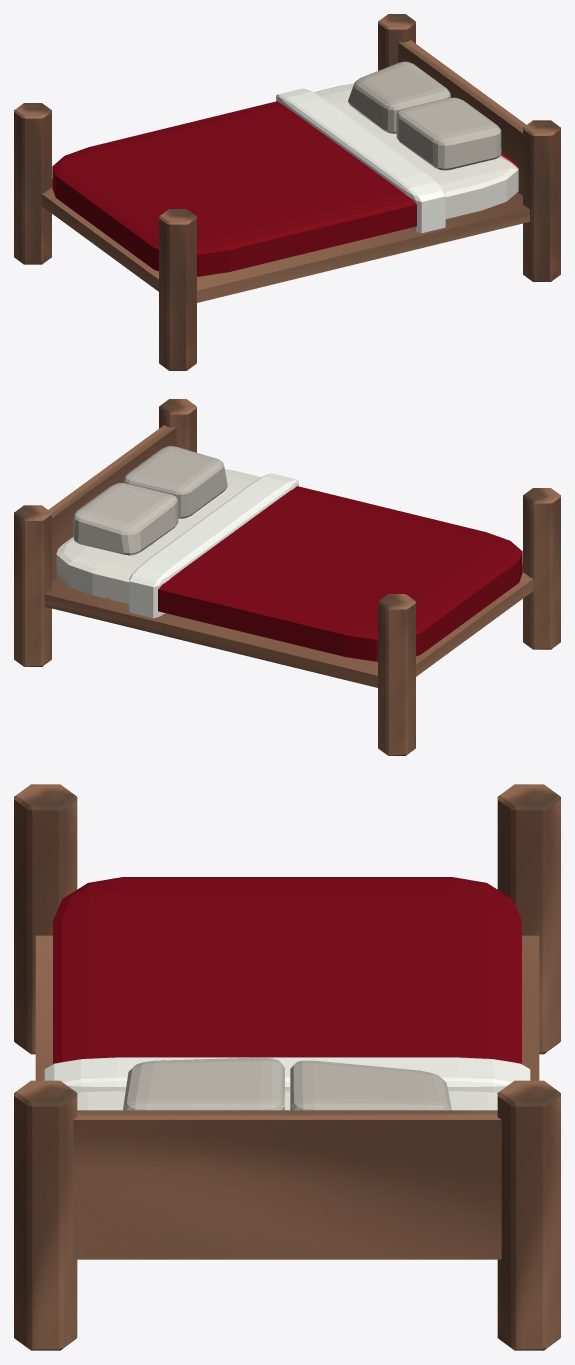
File: Double Bed.fbx
The picture shows the model from 3 angles, top to bottom: view 1: azimuth 30°, elevation 25°; view 2: azimuth 150°, elevation 25°; view 3: azimuth 270°, elevation 25°; orthographic projection. The views are drawn at different scales.
Visible parts, largest first — view 1: Cube; view 2: Cube; view 3: Cube.
Part boxes in pixels (x1=…): Cube: x1=14, y1=14, x2=560, y2=370; Cube: x1=14, y1=399, x2=560, y2=755; Cube: x1=14, y1=784, x2=560, y2=1350.
Size of the model in its own units: 3.14 by 2.26 by 1.13.
Materials: 9 (7 with a texture image).
